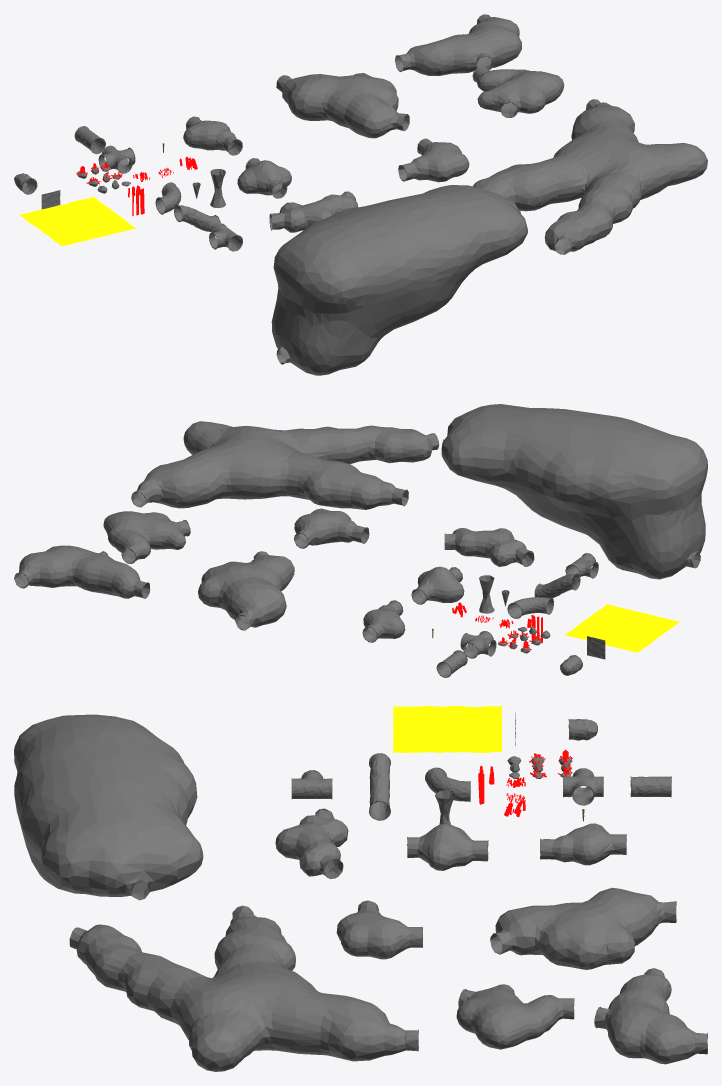
The model's file is Low-Poly Crystal Cave.fbx.
The picture shows the model from 3 angles, top to bottom: view 1: azimuth 30°, elevation 25°; view 2: azimuth 150°, elevation 25°; view 3: azimuth 270°, elevation 25°; orthographic projection. The views are drawn at different scales.
Parts seen in each view (by area): view 1: Cave_Room_9, Cave_Room_8, Cave_Room_4, Cave_Room_6, Cave_Room_7, Lava_Plane, Cave_Room_5, Cave_Room_3, Cave_Room_2, Cave_Room_1, Cave_Corridor_4Way, Cave_Corridor_Up_Down (+2 smaller); view 2: Cave_Room_9, Cave_Room_8, Cave_Room_4, Cave_Room_6, Cave_Room_7, Lava_Plane, Cave_Room_3, Cave_Room_5, Cave_Room_2, Cave_Room_1, Cave_Corridor_4Way, Cave_Corridor_Curve (+4 smaller); view 3: Cave_Room_9, Cave_Room_8, Cave_Room_4, Cave_Room_6, Lava_Plane, Cave_Room_7, Cave_Room_3, Cave_Room_5, Cave_Room_2, Cave_Room_1, Cave_Corridor_Up_Down, Cave_Corridor_4Way (+4 smaller).
Part boxes in pixels (box(x1,y1,x2,y2)): Cave_Room_9: box(271, 185, 527, 375); Cave_Room_8: box(473, 99, 707, 254); Cave_Room_4: box(276, 73, 409, 138); Cave_Room_6: box(395, 14, 521, 75); Cave_Room_7: box(472, 66, 564, 117); Lava_Plane: box(19, 197, 135, 246); Cave_Room_5: box(398, 138, 469, 182); Cave_Room_3: box(269, 191, 357, 232); Cave_Room_2: box(237, 158, 291, 198); Cave_Room_1: box(183, 116, 242, 155); Cave_Corridor_4Way: box(98, 145, 135, 173); Cave_Corridor_Up_Down: box(174, 205, 220, 231); Cave_Room_9: box(441, 404, 707, 579); Cave_Room_8: box(131, 421, 439, 509); Cave_Room_4: box(198, 551, 294, 630); Cave_Room_6: box(14, 545, 150, 598); Cave_Room_7: box(103, 511, 190, 563); Lava_Plane: box(565, 604, 679, 652); Cave_Room_3: box(444, 528, 534, 566); Cave_Room_5: box(294, 508, 369, 548); Cave_Room_2: box(411, 566, 464, 604); Cave_Room_1: box(362, 600, 405, 642); Cave_Corridor_4Way: box(460, 631, 496, 658); Cave_Corridor_Curve: box(507, 597, 553, 618); Cave_Room_9: box(14, 714, 203, 900); Cave_Room_8: box(69, 905, 418, 1071); Cave_Room_4: box(490, 887, 676, 969); Cave_Room_6: box(594, 968, 707, 1064); Lava_Plane: box(393, 706, 501, 752); Cave_Room_7: box(456, 984, 574, 1049); Cave_Room_3: box(275, 808, 348, 878); Cave_Room_5: box(336, 900, 422, 959); Cave_Room_2: box(407, 823, 488, 870); Cave_Room_1: box(540, 823, 626, 865); Cave_Corridor_Up_Down: box(369, 753, 390, 820); Cave_Corridor_4Way: box(563, 768, 603, 805).
Size of the model in its own units: 12322 by 2738 by 10231.
